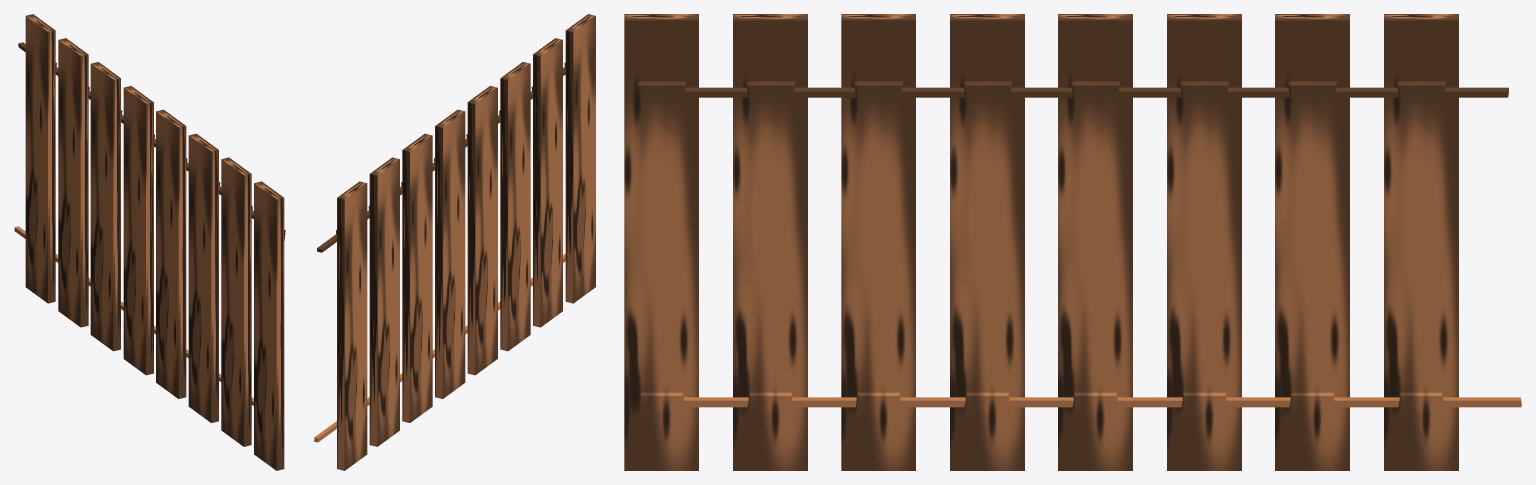
File: Vaya.fbx
3 views of the same model, side by side, from view 1: azimuth 30°, elevation 25°; view 2: azimuth 150°, elevation 25°; view 3: azimuth 270°, elevation 25° (orthographic). The views are drawn at different scales.
Parts seen in each view (by area): view 1: Cube; view 2: Cube; view 3: Cube.
Boxes of the visible parts, x1,y1,x2,y2 form: Cube: (14,14,285,470); Cube: (314,14,595,470); Cube: (624,14,1521,470).
Size of the model in its own units: 9.95 by 200 by 361.
Materials: 1 (1 with a texture image).
